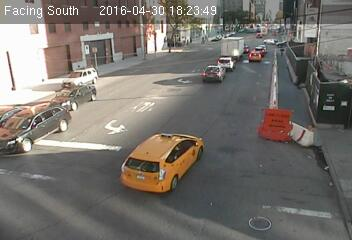neg: (212, 73, 227, 94), (174, 94, 177, 99)
pos: (278, 44, 286, 54)
